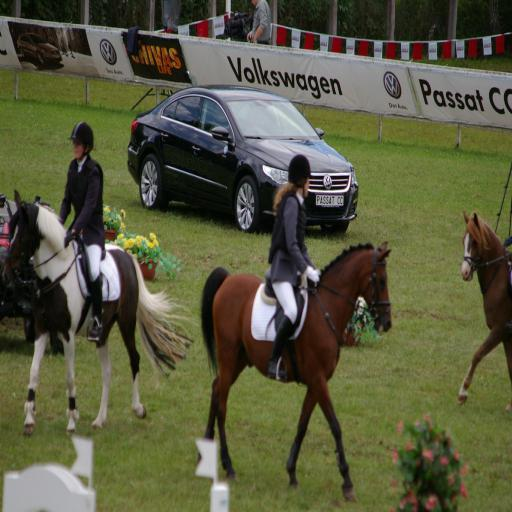horse: (0, 188, 200, 440), (200, 242, 393, 500), (456, 212, 512, 409)
